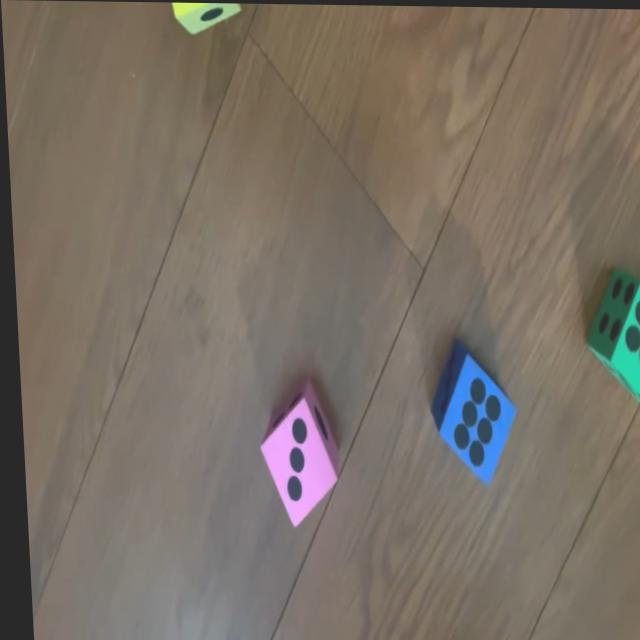cube: (425, 336, 514, 487), (579, 267, 640, 416)
